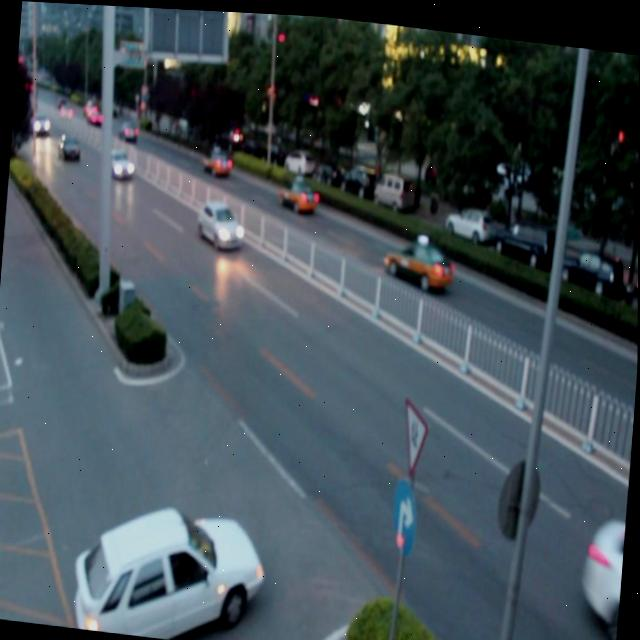car: (74, 498, 263, 640), (583, 512, 626, 625), (385, 230, 451, 284), (196, 198, 243, 246), (279, 172, 318, 211), (202, 142, 234, 177), (104, 145, 135, 178)
